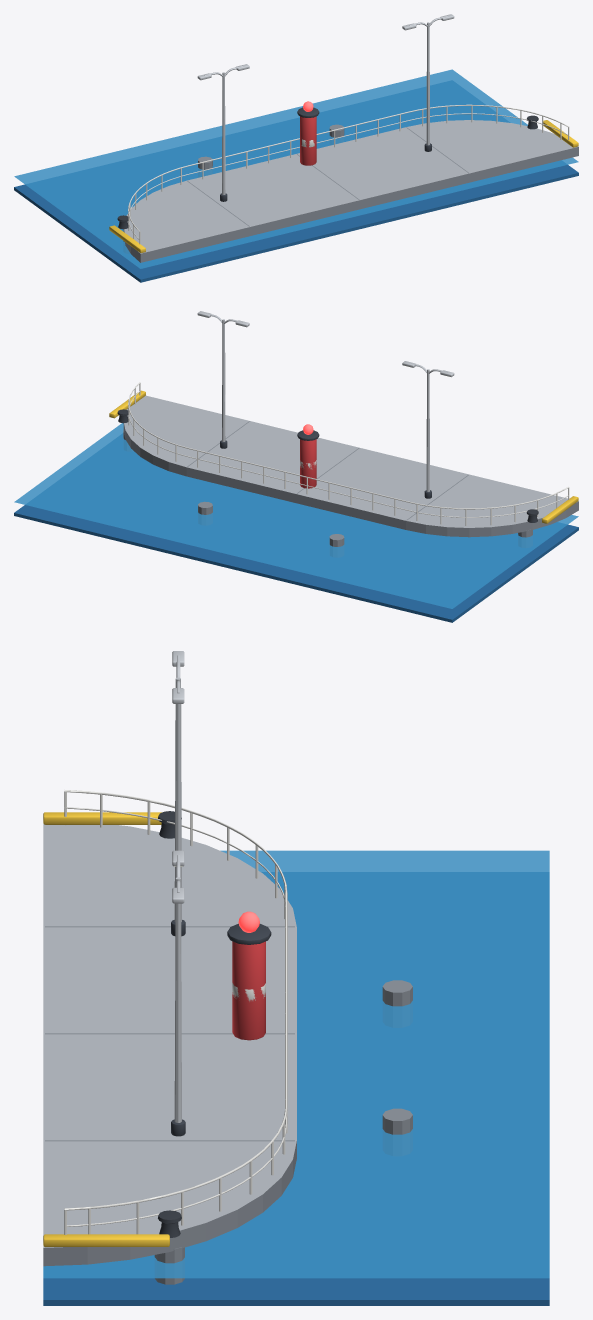
Rendered from pier_cruzeiro_ponta.glb.
3 renders of one model, top to bottom at view 1: azimuth 30°, elevation 25°; view 2: azimuth 150°, elevation 25°; view 3: azimuth 270°, elevation 25°, orthographic. The views are drawn at different scales.
Visible parts, largest first — view 1: pier_cruzeiro_ponta; view 2: pier_cruzeiro_ponta; view 3: pier_cruzeiro_ponta.
Boxes of the visible parts, box(x1,y1,x2,y2) form: pier_cruzeiro_ponta: box(14, 14, 578, 282); pier_cruzeiro_ponta: box(14, 311, 578, 622); pier_cruzeiro_ponta: box(43, 651, 549, 1305).
Size of the model in its own units: 30 by 10.4 by 15.
Materials: 4 (1 with a texture image).
